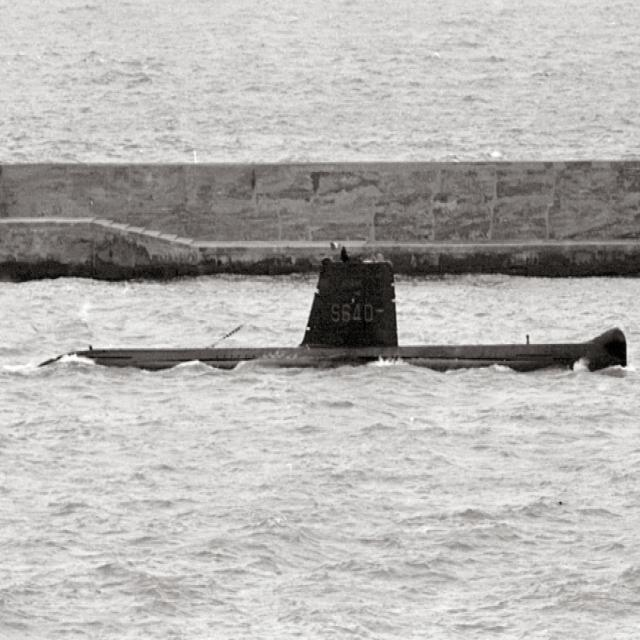submarine: (40, 268, 629, 366)
